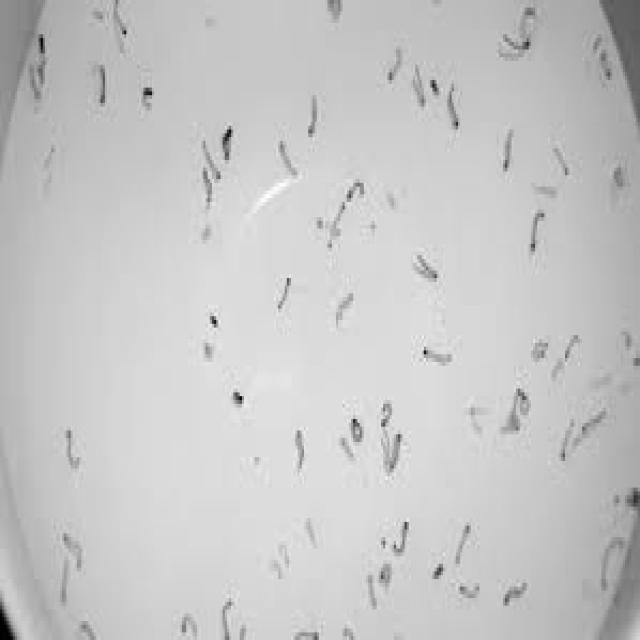larvas: (600, 539, 626, 592), (574, 410, 608, 446), (550, 336, 580, 376), (326, 204, 345, 255), (278, 140, 299, 178), (202, 143, 222, 180), (386, 432, 403, 472), (530, 213, 546, 254), (413, 63, 426, 113), (503, 583, 528, 608), (562, 418, 576, 461), (317, 215, 343, 238), (393, 521, 410, 556), (416, 254, 438, 281), (422, 348, 453, 367), (65, 538, 82, 572), (552, 142, 568, 176), (336, 292, 354, 322), (66, 429, 80, 467), (180, 614, 200, 640), (278, 278, 292, 315), (388, 46, 403, 80), (345, 179, 362, 209), (502, 130, 515, 169), (448, 83, 459, 129), (457, 526, 471, 562), (39, 34, 48, 89), (29, 65, 43, 100), (308, 95, 319, 136), (502, 36, 532, 51), (532, 180, 556, 198), (98, 67, 108, 109), (534, 336, 548, 364), (503, 408, 518, 434), (222, 128, 233, 163), (60, 557, 68, 605), (516, 388, 530, 414), (460, 581, 480, 599), (293, 625, 317, 640), (328, 0, 343, 23), (115, 8, 127, 36), (340, 437, 354, 461), (223, 598, 231, 640), (379, 564, 394, 586), (368, 578, 378, 610), (204, 172, 212, 210), (141, 88, 154, 111), (80, 622, 97, 639), (614, 166, 626, 190), (304, 522, 316, 546), (382, 401, 392, 427), (351, 421, 364, 441), (281, 548, 291, 572), (297, 434, 304, 463)
